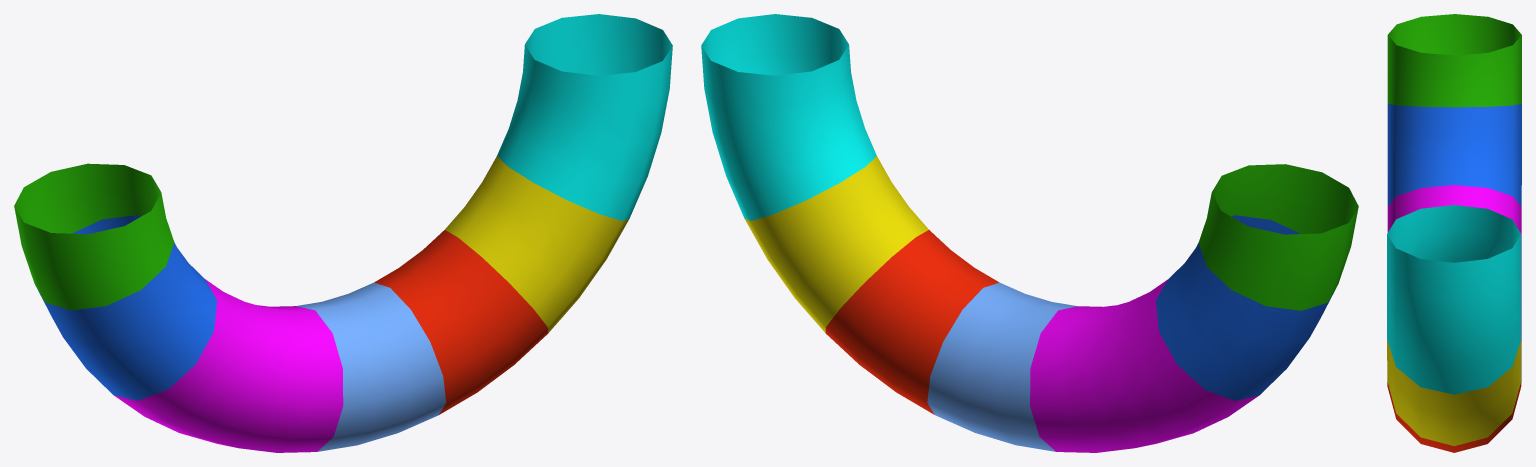
File: finishtabela.fbx
The picture shows the model from 3 angles, left to right: view 1: azimuth 30°, elevation 25°; view 2: azimuth 150°, elevation 25°; view 3: azimuth 270°, elevation 25°; orthographic projection. The views are drawn at different scales.
Parts seen in each view (by area): view 1: Torus.001, Torus.003, Torus.002, Torus.006, Torus.005, Torus.007, Torus.004; view 2: Torus.001, Torus.003, Torus.002, Torus.006, Torus.005, Torus.007, Torus.004; view 3: Torus.001, Torus.002, Torus.007, Torus.006, Torus.003, Torus.005.
Part boxes in pixels (x1,y1,x2,y2): Torus.001: (497, 14, 672, 220); Torus.003: (114, 279, 343, 452); Torus.002: (14, 163, 174, 310); Torus.006: (445, 156, 628, 332); Torus.005: (374, 230, 548, 414); Torus.007: (37, 215, 217, 400); Torus.004: (296, 282, 446, 451); Torus.001: (701, 14, 876, 220); Torus.003: (1030, 279, 1258, 452); Torus.002: (1198, 164, 1358, 310); Torus.006: (745, 156, 928, 332); Torus.005: (825, 230, 999, 414); Torus.007: (1156, 215, 1335, 400); Torus.004: (927, 282, 1077, 451); Torus.001: (1387, 205, 1521, 394); Torus.002: (1387, 14, 1521, 107); Torus.007: (1387, 103, 1521, 206); Torus.006: (1387, 339, 1521, 446); Torus.003: (1387, 185, 1521, 342); Torus.005: (1387, 381, 1521, 452).
Bounding box in the file's own units: 365 × 182 × 73.6.
